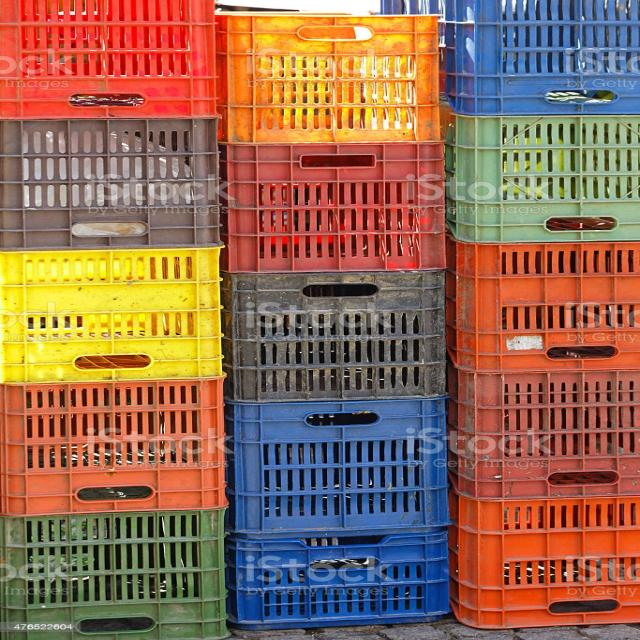basket: (0, 376, 226, 517), (223, 398, 448, 538), (0, 247, 221, 384), (0, 115, 219, 251), (0, 510, 228, 640), (222, 271, 445, 403), (215, 13, 439, 143), (220, 143, 443, 273), (224, 531, 450, 632)
